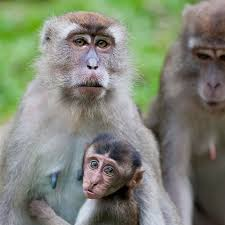monkey: (14, 6, 125, 135), (4, 140, 169, 206), (174, 11, 225, 220)
